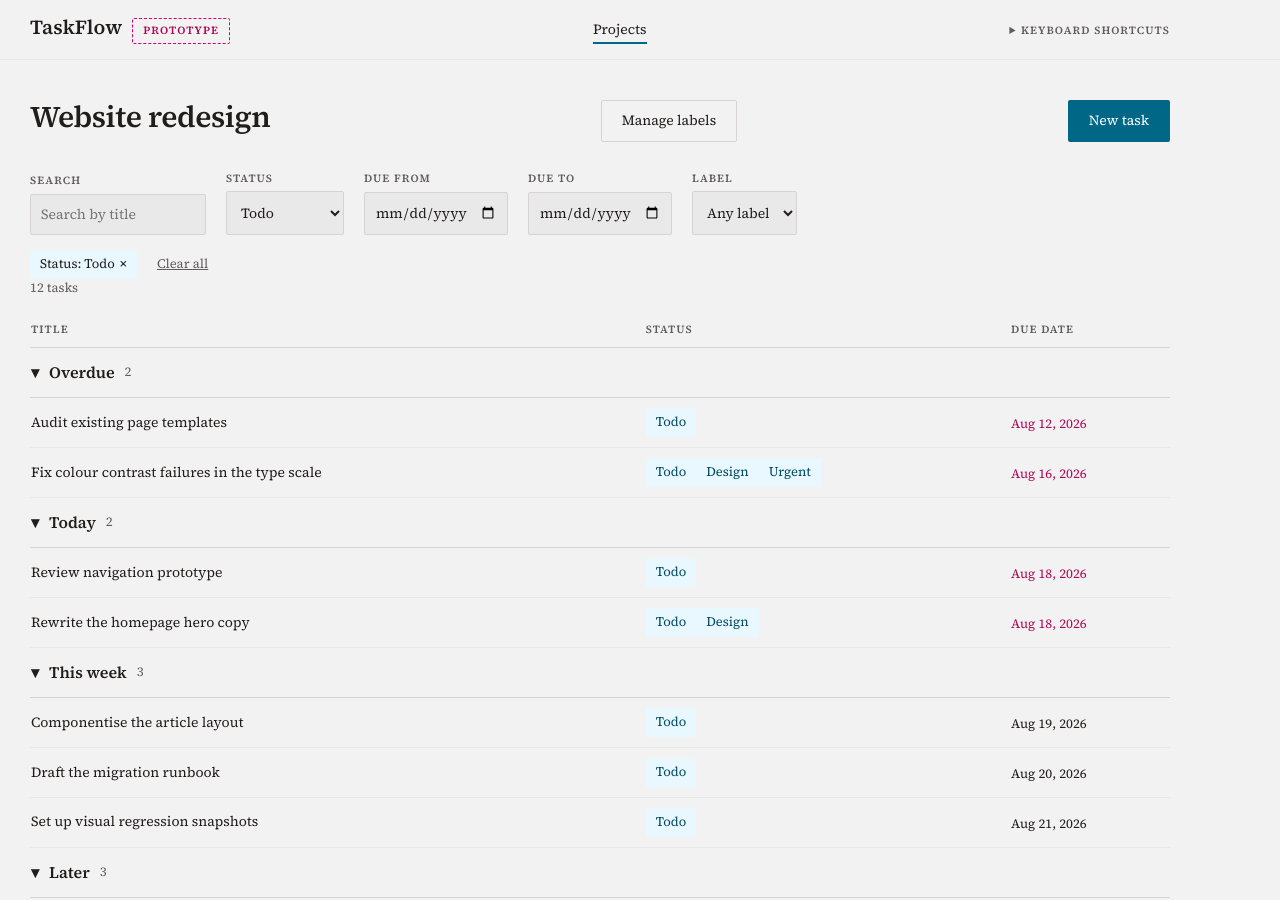
Test case: CreateTaskDialog › preserves the current filters when opening and closing (§2 line 49)
This screenshot has width=1280, height=900.
Click the link "New task" at (1119, 121), box [1068,100,1170,142]
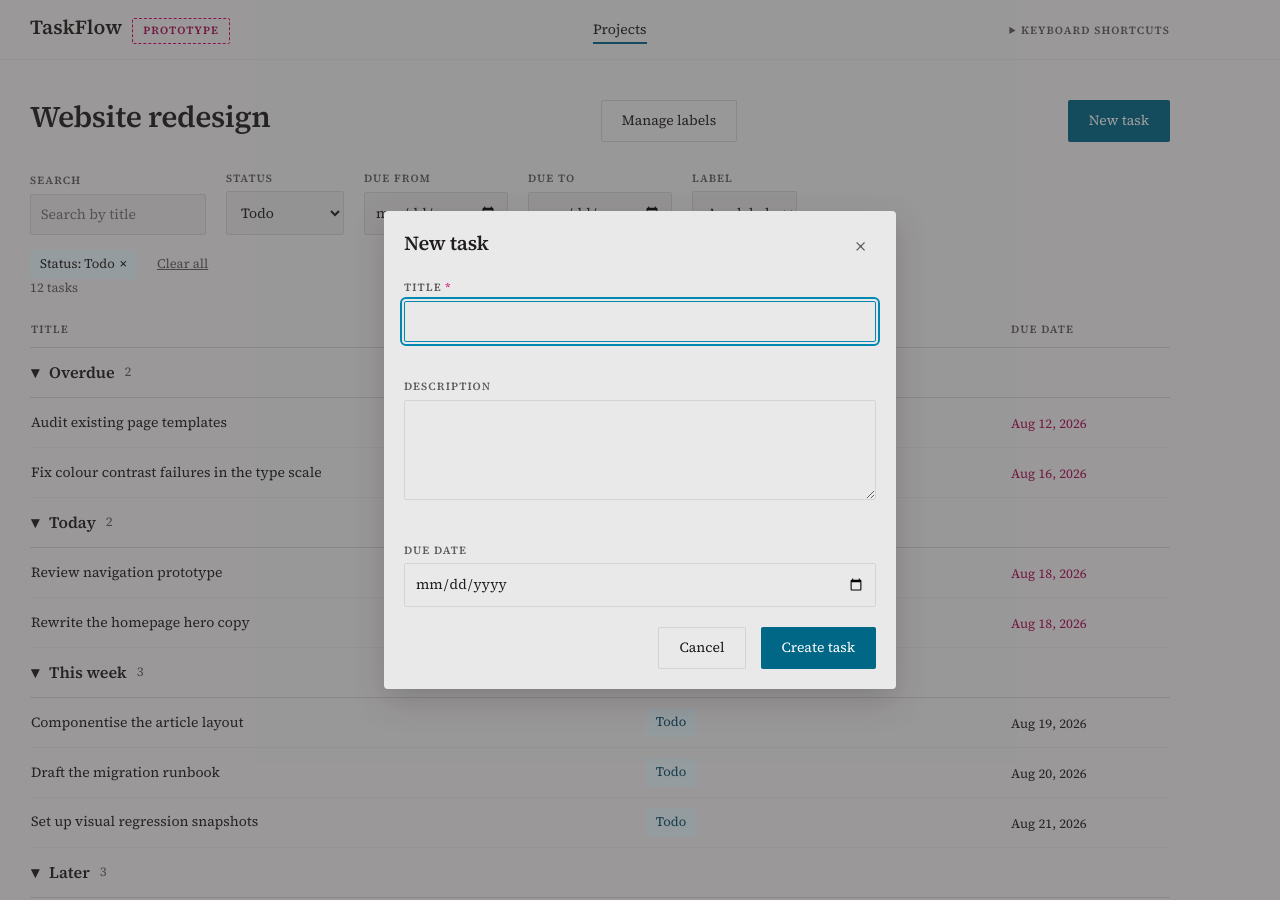
Press Escape
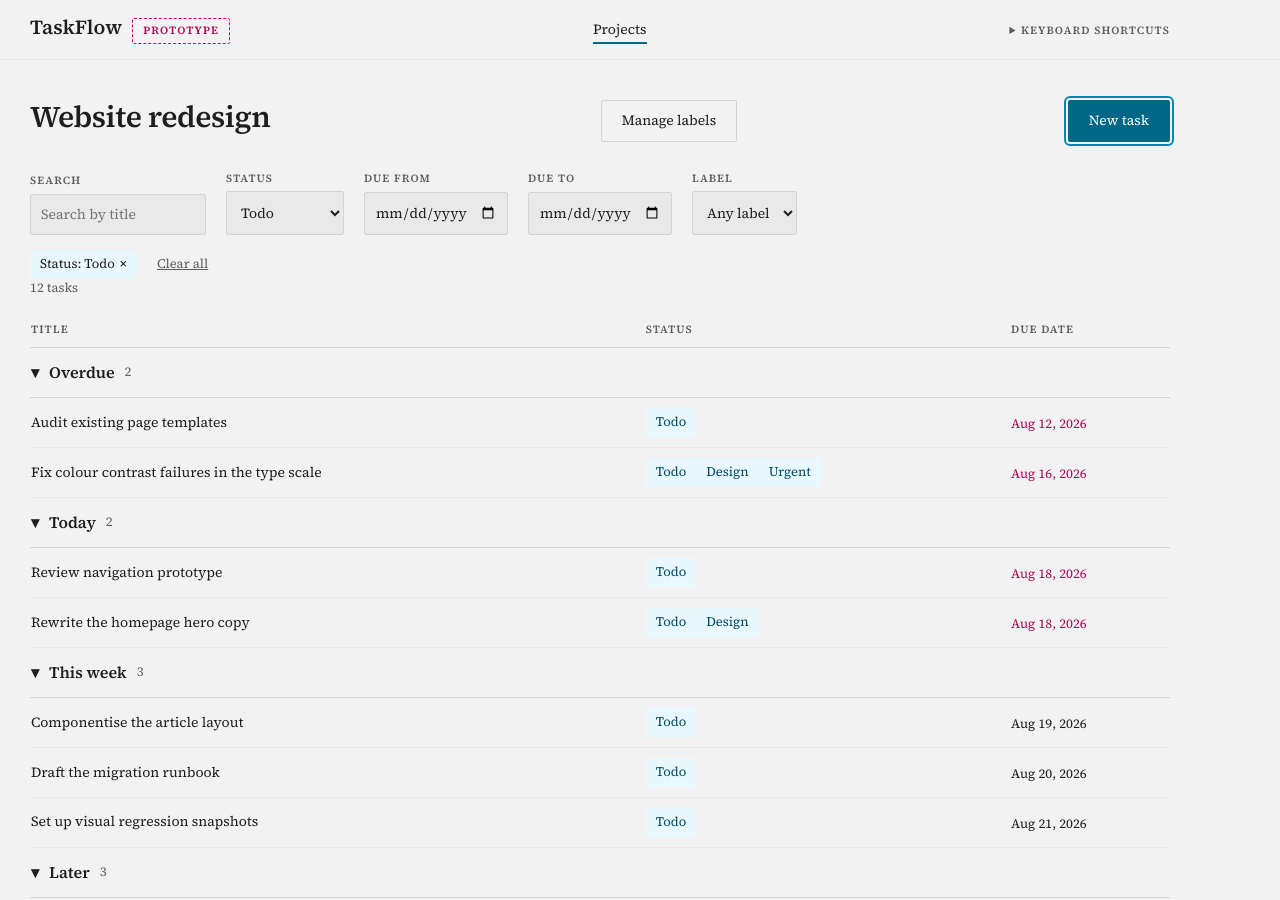
expect the dialog is gone: met
